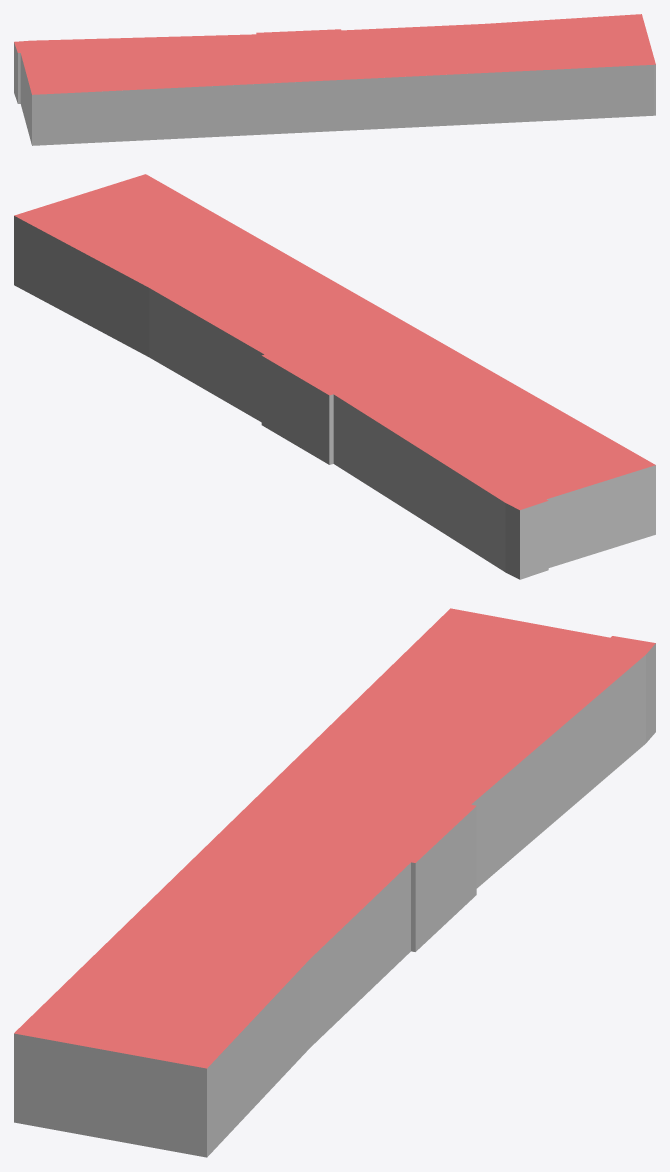
The model's file is DEBY_LOD2_4908180.gltf.
3 renders of one model, top to bottom at view 1: azimuth 30°, elevation 25°; view 2: azimuth 150°, elevation 25°; view 3: azimuth 270°, elevation 25°, orthographic. The views are drawn at different scales.
Parts seen in each view (by area): view 1: Z_UP; view 2: Z_UP; view 3: Z_UP.
Boxes of the visible parts, bbox=[...] form: Z_UP: bbox=[14, 14, 655, 145]; Z_UP: bbox=[14, 174, 655, 579]; Z_UP: bbox=[14, 608, 655, 1157].
Bounding box in the file's own units: 28.99 × 2.62 × 17.09.
